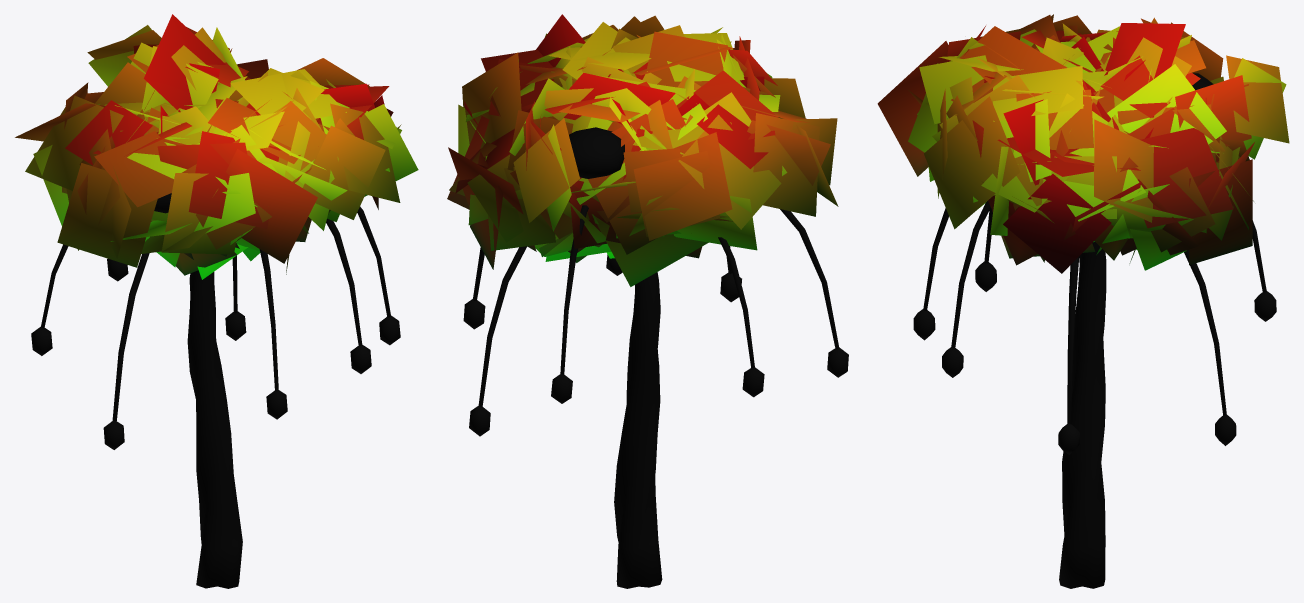
The model's file is env_tree_bg_a.fbx.
3 views of the same model, side by side, from view 1: azimuth 30°, elevation 25°; view 2: azimuth 150°, elevation 25°; view 3: azimuth 270°, elevation 25° (orthographic). The views are drawn at different scales.
Visible parts, largest first — view 1: env_tree_bg_a; view 2: env_tree_bg_a; view 3: env_tree_bg_a.
Part boxes in pixels (x1,y1,x2,y2): env_tree_bg_a: (15, 14, 418, 588); env_tree_bg_a: (447, 14, 848, 588); env_tree_bg_a: (877, 14, 1289, 588).
Size of the model in its own units: 5.78 by 8.3 by 5.55.
